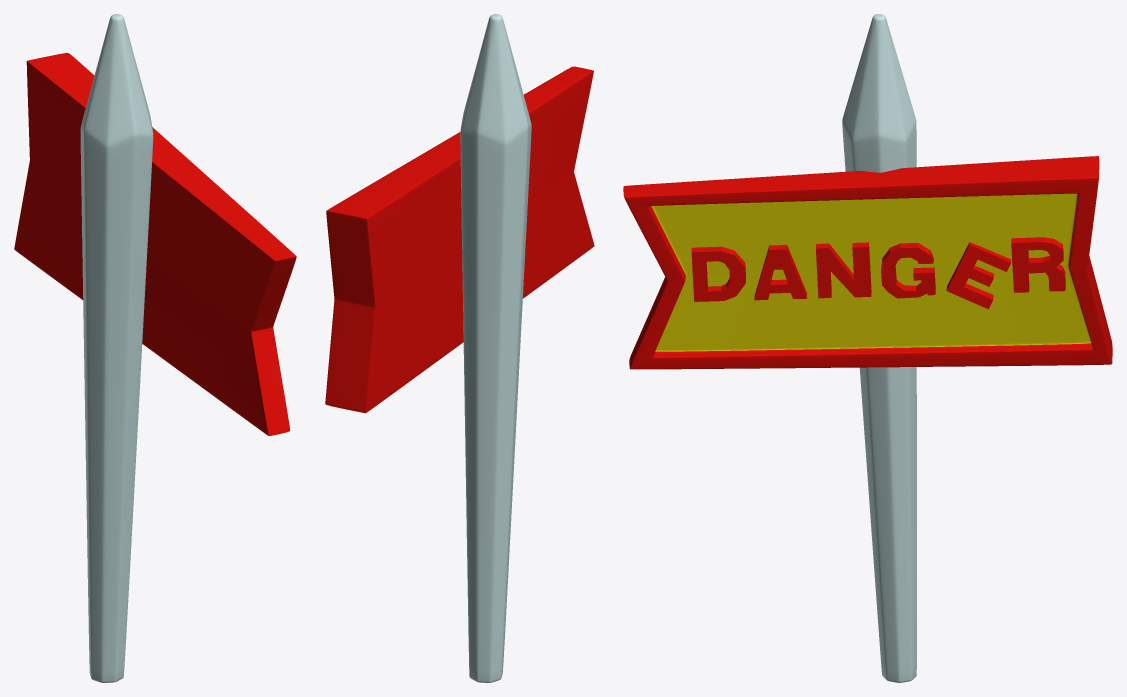
The model's file is _anger.fbx.
3 renders of one model, left to right at view 1: azimuth 30°, elevation 25°; view 2: azimuth 150°, elevation 25°; view 3: azimuth 270°, elevation 25°, orthographic. The views are drawn at different scales.
Parts seen in each view (by area): view 1: Cube, Cylinder; view 2: Cube, Cylinder; view 3: Cube, Cylinder, Cube.004.
Part boxes in pixels (x1=…): Cube: x1=14, y1=53, x2=296, y2=435; Cylinder: x1=80, y1=14, x2=153, y2=682; Cube: x1=325, y1=66, x2=594, y2=413; Cylinder: x1=460, y1=14, x2=531, y2=682; Cube: x1=623, y1=156, x2=1112, y2=369; Cylinder: x1=842, y1=14, x2=916, y2=682; Cube.004: x1=691, y1=237, x2=1065, y2=309.
Bounding box in the file's own units: 57.18 × 383 × 257.
